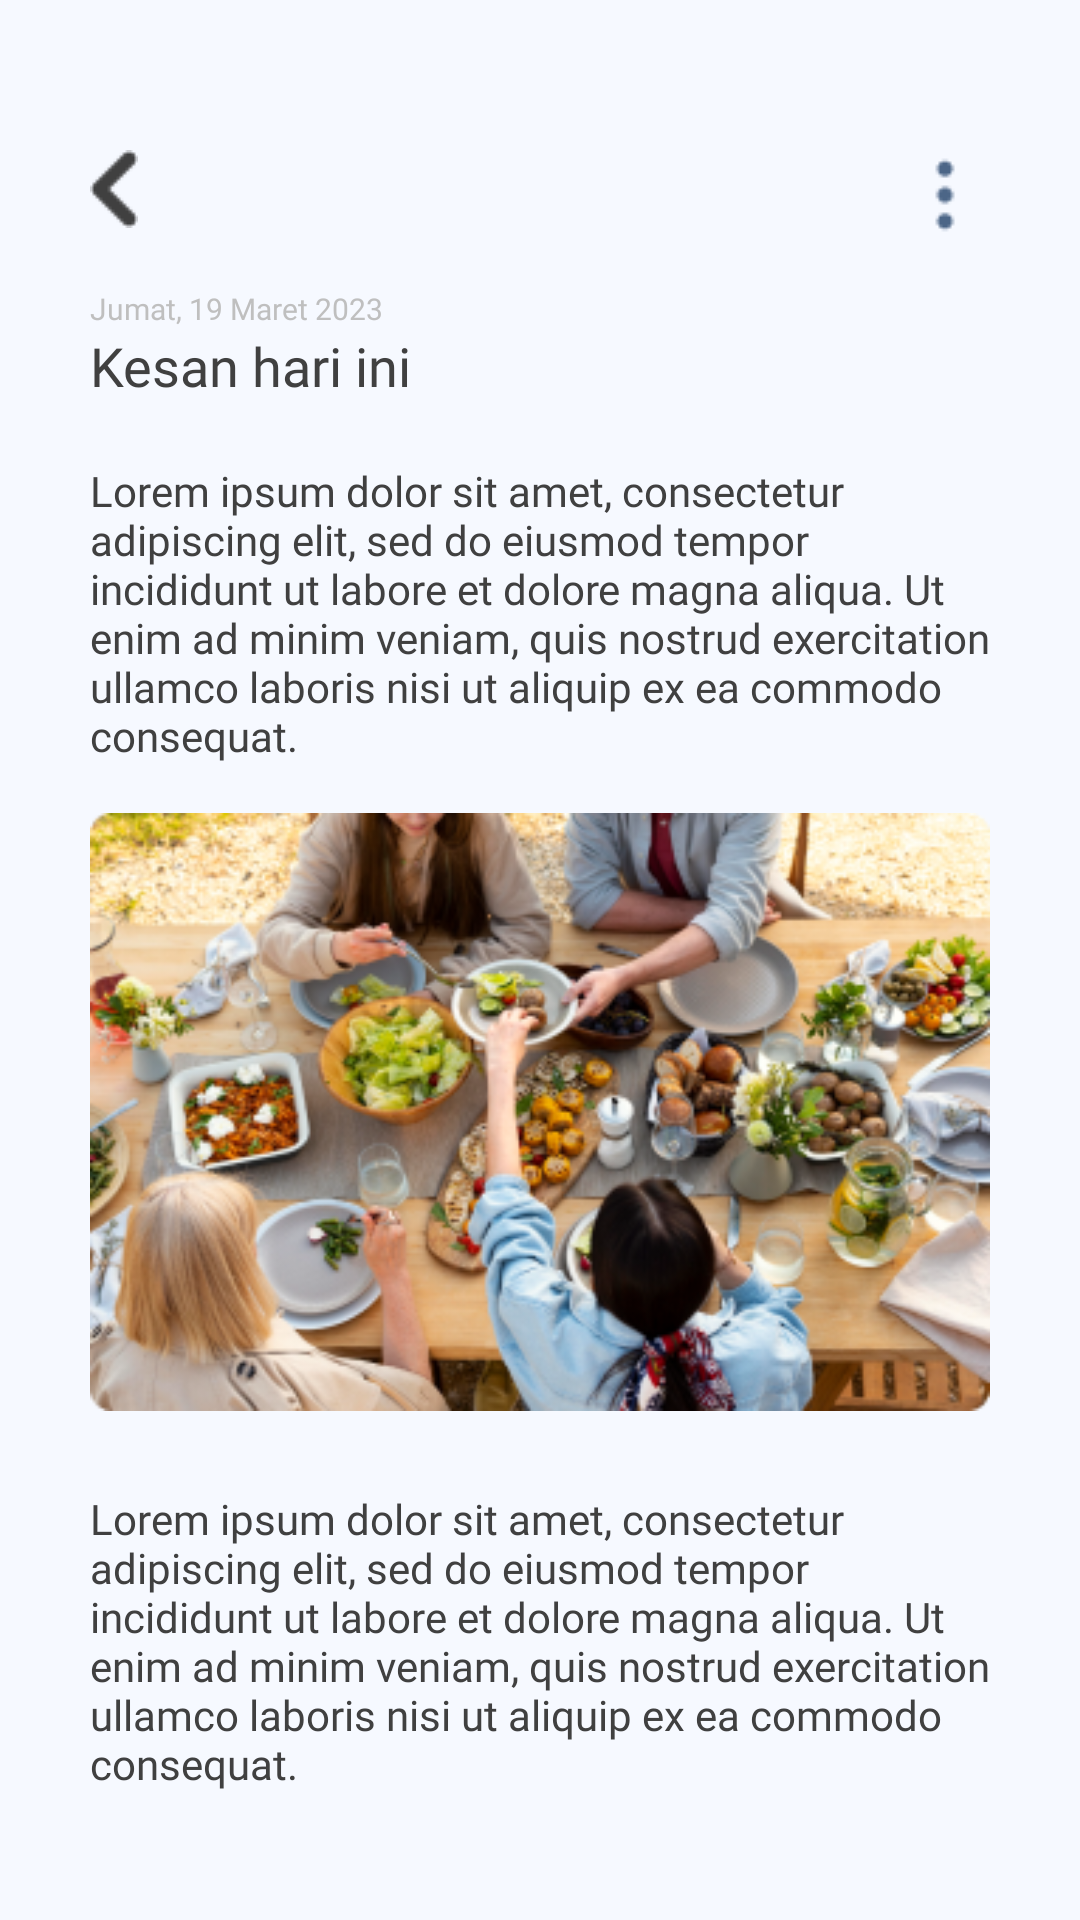

Icon click points for this 1080 x 1920 phone screenshot, format (x=x, y=y):
arrow back from search: (x=114, y=189)
more: (x=945, y=195)
